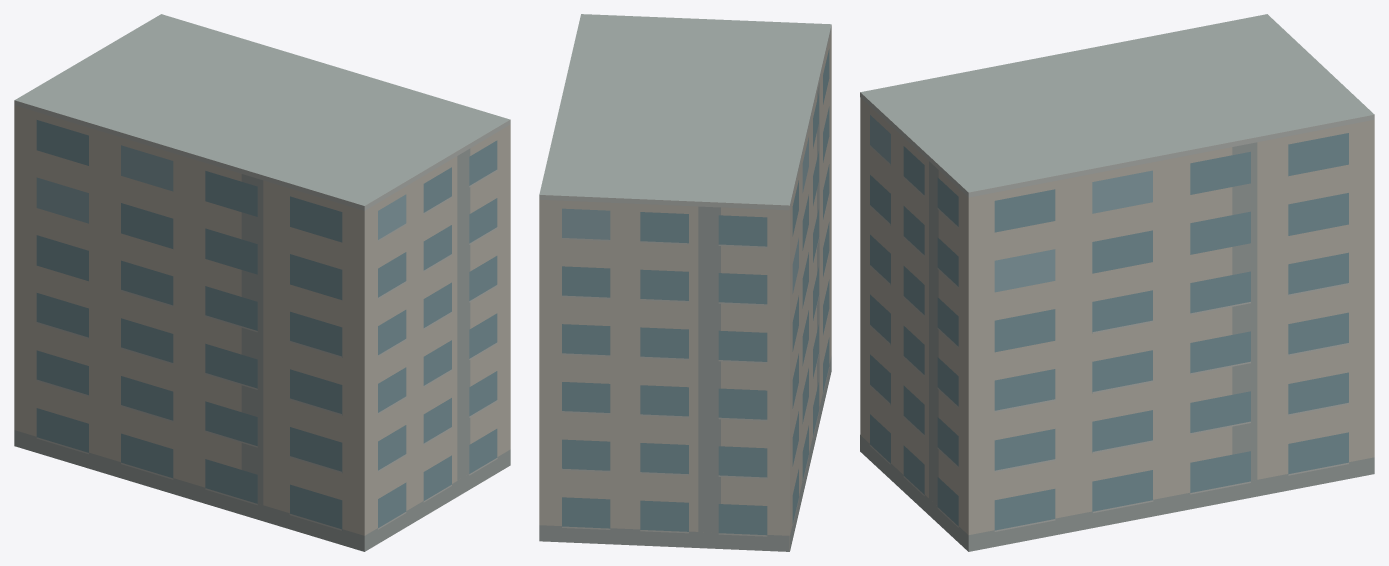
Rendered from survey-upis-32833015.glb.
3 views of the same model, side by side, from view 1: azimuth 30°, elevation 25°; view 2: azimuth 150°, elevation 25°; view 3: azimuth 270°, elevation 25° (orthographic). The views are drawn at different scales.
Visible parts, largest first — view 1: survey-upis-32833015.tmp; view 2: survey-upis-32833015.tmp; view 3: survey-upis-32833015.tmp.
Boxes of the visible parts, x1,y1,x2,y2 form: survey-upis-32833015.tmp: (14, 14, 510, 551); survey-upis-32833015.tmp: (539, 14, 831, 551); survey-upis-32833015.tmp: (860, 14, 1374, 551).
Size of the model in its own units: 18.38 by 17.24 by 22.38.
